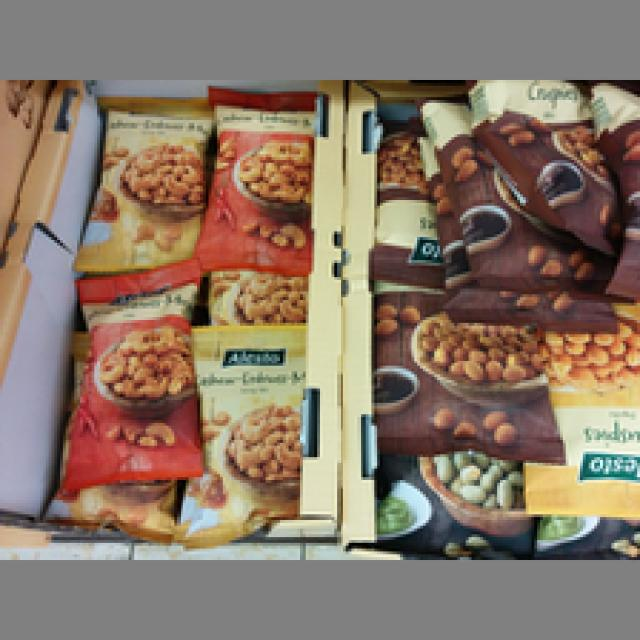groceries: (51, 255, 203, 494), (374, 274, 563, 466), (171, 320, 303, 546), (68, 91, 212, 272), (466, 77, 611, 254), (194, 83, 309, 274)
